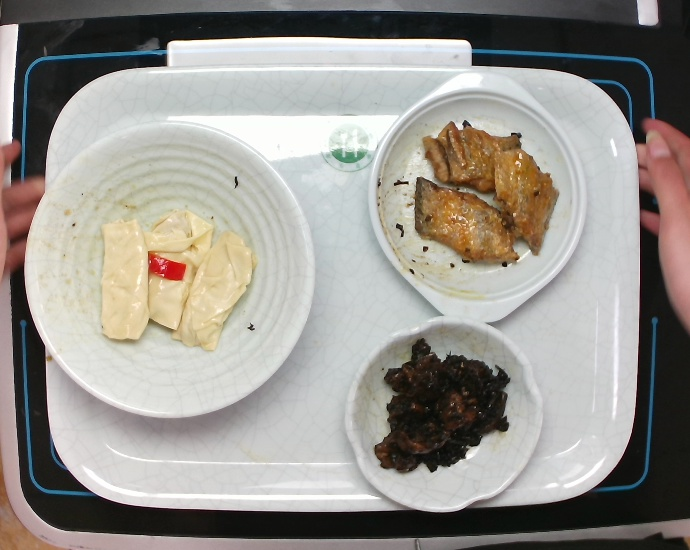JYsf-Ao_Yuan_Wan: (341, 312, 548, 516)
JYsf-Shuang_Er_Pan: (361, 68, 591, 326)
JYsf-Xiao_Tang_Wan: (21, 119, 319, 422)
